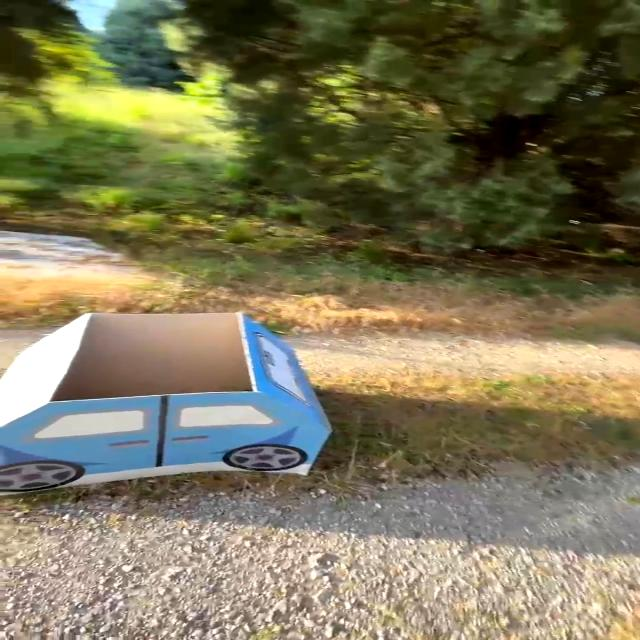blue_car: (0, 279, 377, 520)
